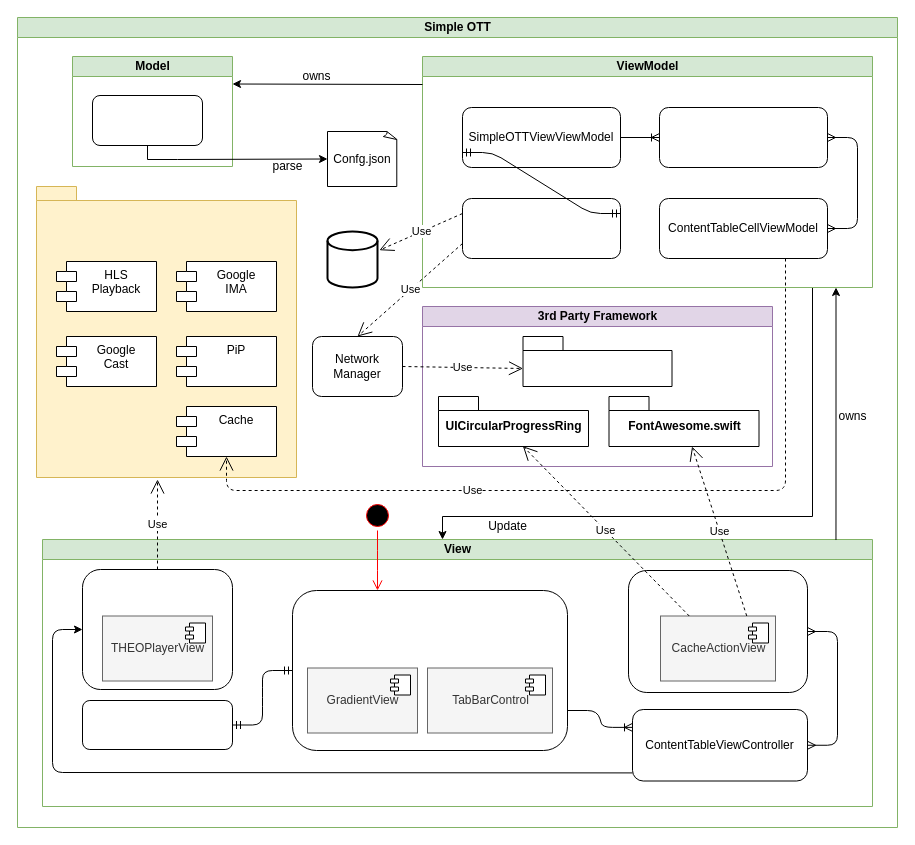
This 915x845 diagram has some shape labels left out. Here are the shapes that lost their labels. From the top down, the box of each, then its label:
(92, 94, 202, 146): JSONConfig
(658, 106, 828, 168): ContentTableViewViewModel
(462, 198, 620, 258): SettingsViewViewModel
(326, 230, 378, 288): User Settings
(36, 186, 296, 478): THEOplayer
(522, 336, 672, 386): ReachabilitySwift
(82, 568, 232, 690): PlayerViewController
(628, 570, 808, 692): ContentTableViewCell
(292, 590, 568, 750): SimpleOTTViewController
(82, 700, 232, 750): SettingsViewController
